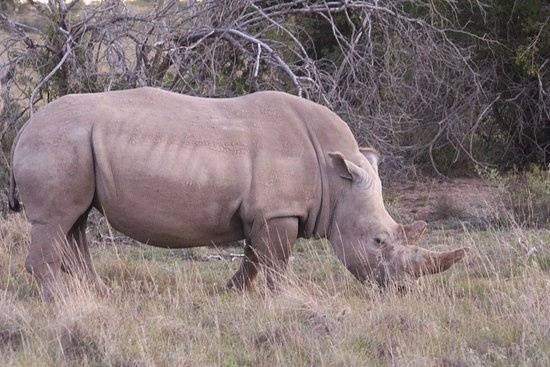rhino: (9, 86, 472, 290)
